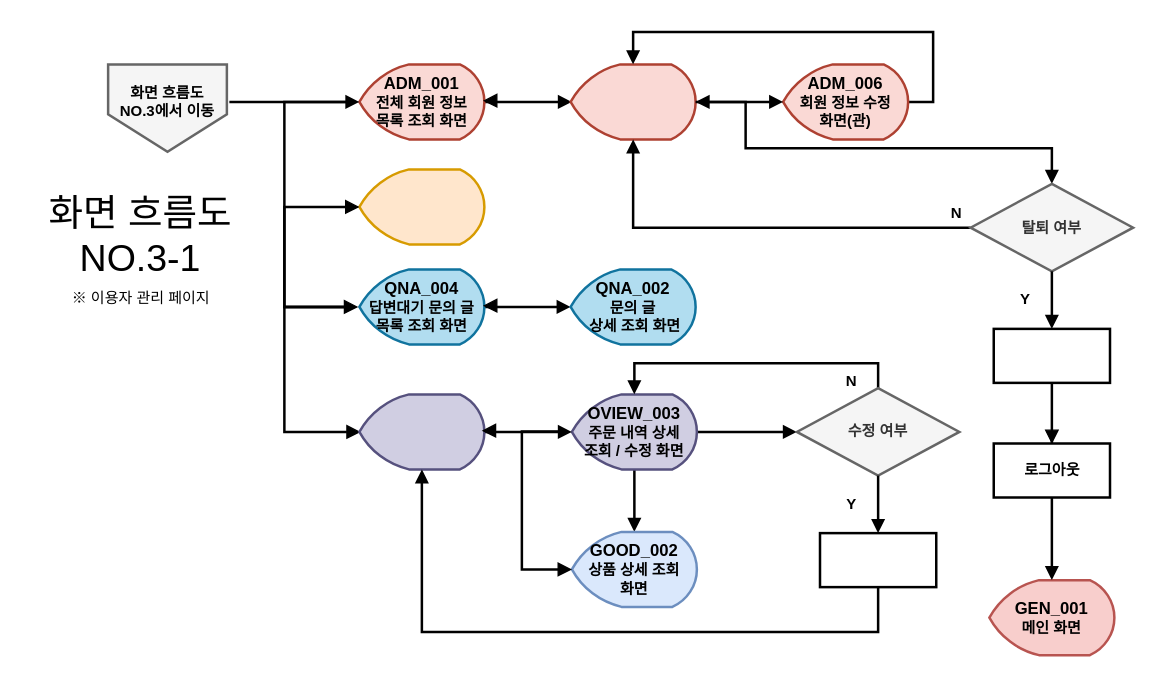
The diagram is 1155 pixels wide and 678 high, and some of its shapes have lost their labels. The shapes that lost their labels are listed below. From the top down, each one's centre as x and y in pixels, then its label:
At (x=632, y=101): "ADM_005 상세 회원 정보 조회 화면(관)".
At (x=421, y=206): "MAS_003 전문가 요청 리스트 조회 화면".
At (x=1051, y=355): "탈퇴".
At (x=421, y=431): "OVIEW_001 주문 내역 전체 조회 화면".
At (x=877, y=559): "수정".
